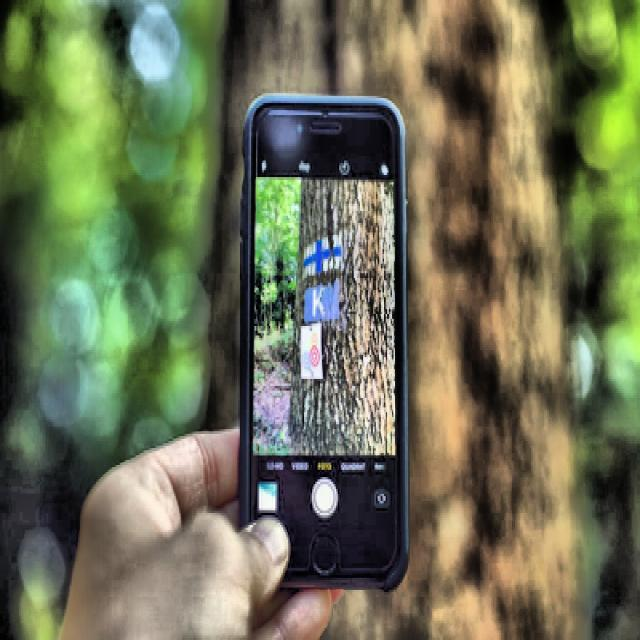Phone: (235, 91, 408, 592)
